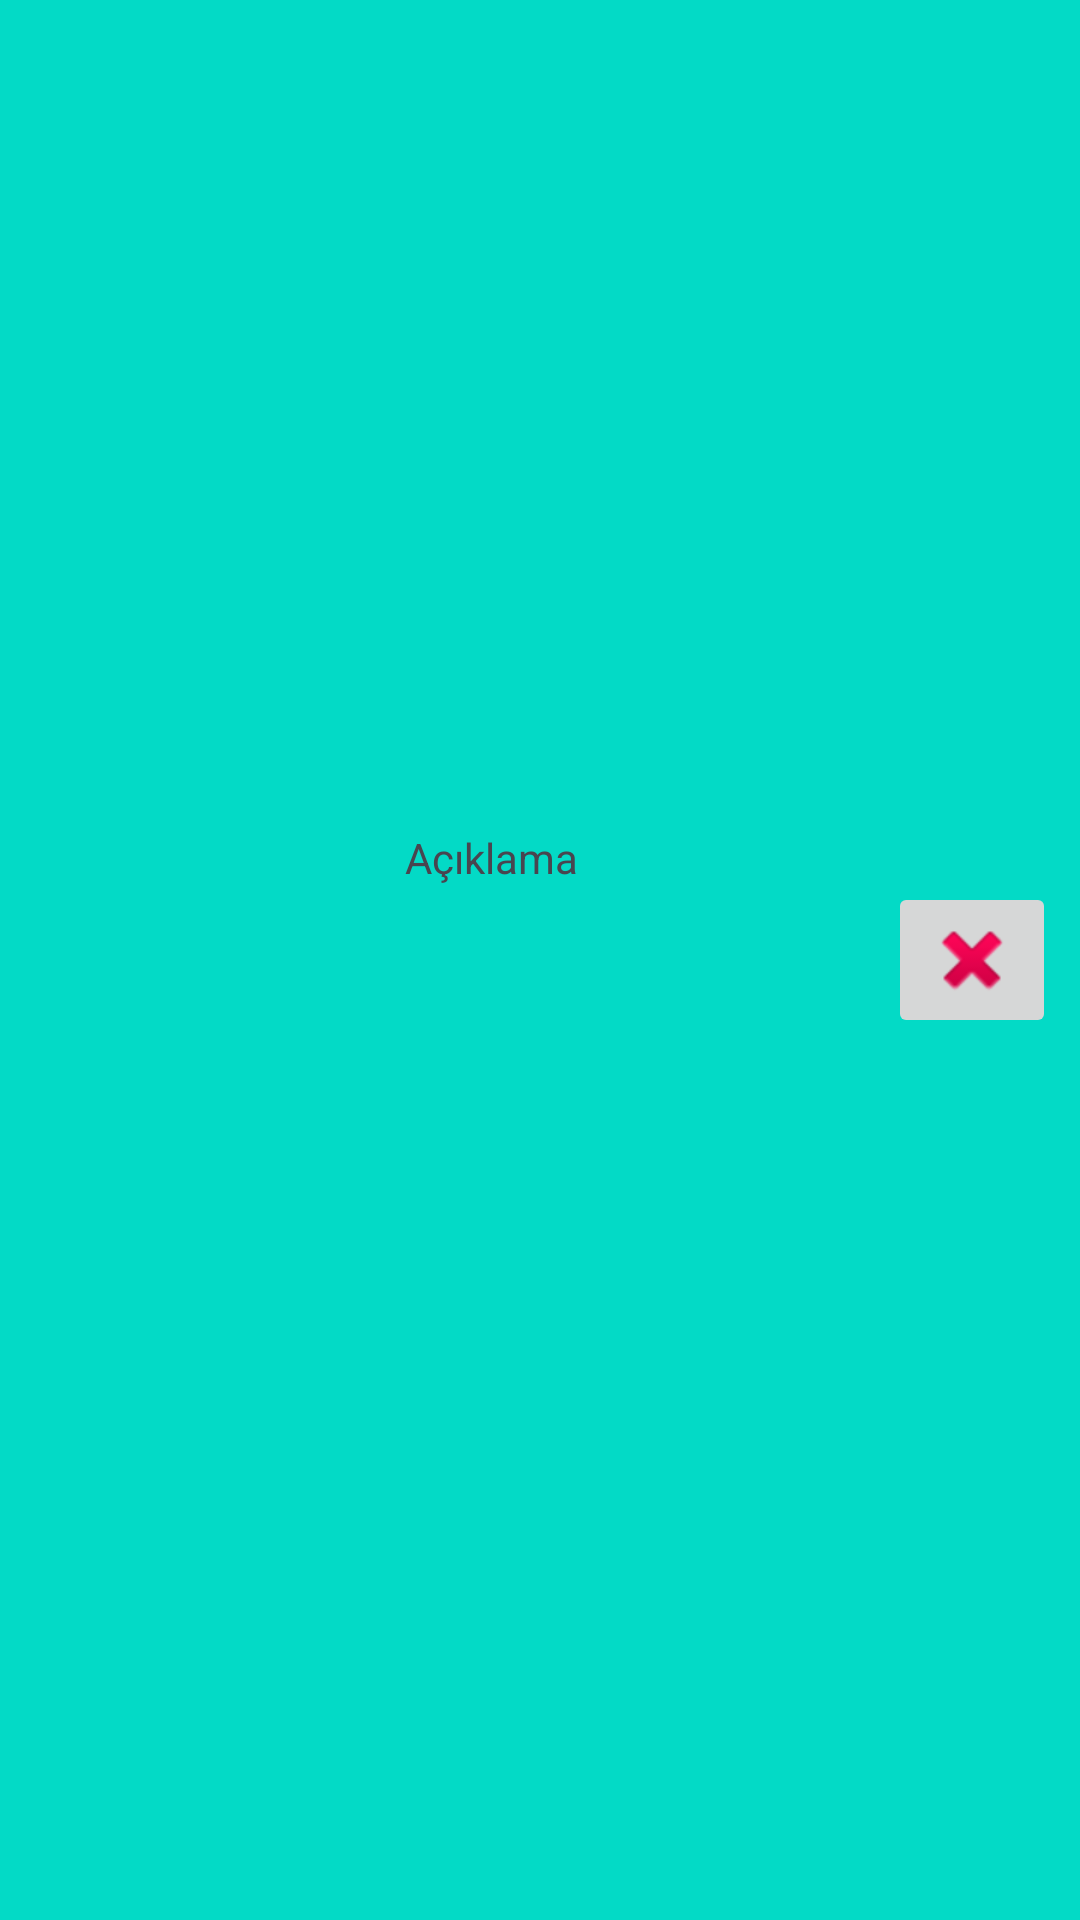

Icon click points for this 1080px×1920px phone screenshot, format (x,y):
delete: (972,960)
